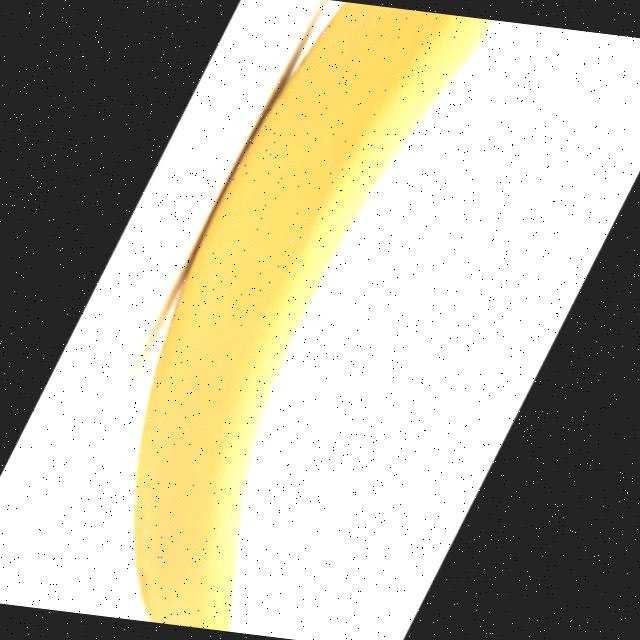Ripe: (109, 0, 503, 640)
